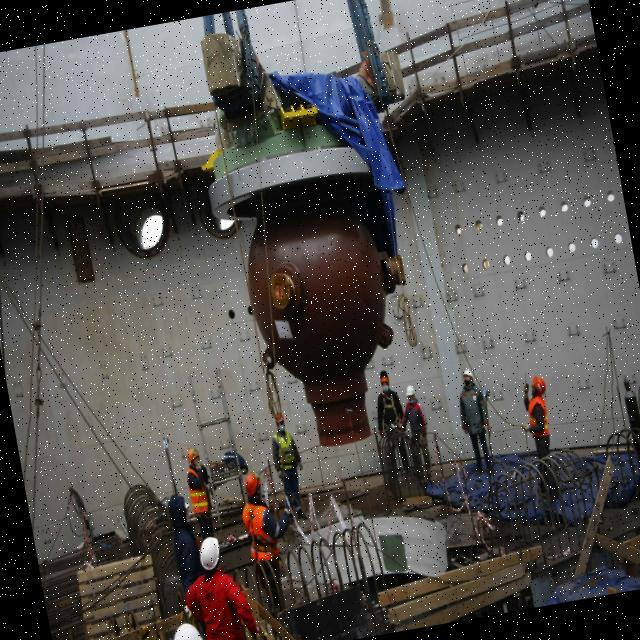Helmet: (198, 536, 224, 574), (166, 620, 207, 640), (242, 471, 265, 499), (532, 376, 548, 397), (187, 447, 203, 465), (462, 369, 475, 382), (405, 385, 417, 399), (274, 414, 287, 425), (380, 376, 391, 386), (186, 501, 192, 511)
Jacket: (245, 499, 279, 563), (526, 395, 552, 439), (187, 467, 210, 515), (276, 429, 298, 473)
NoJacket: (196, 570, 244, 640), (175, 529, 204, 585), (460, 382, 487, 433), (379, 389, 402, 429), (407, 399, 426, 437)
